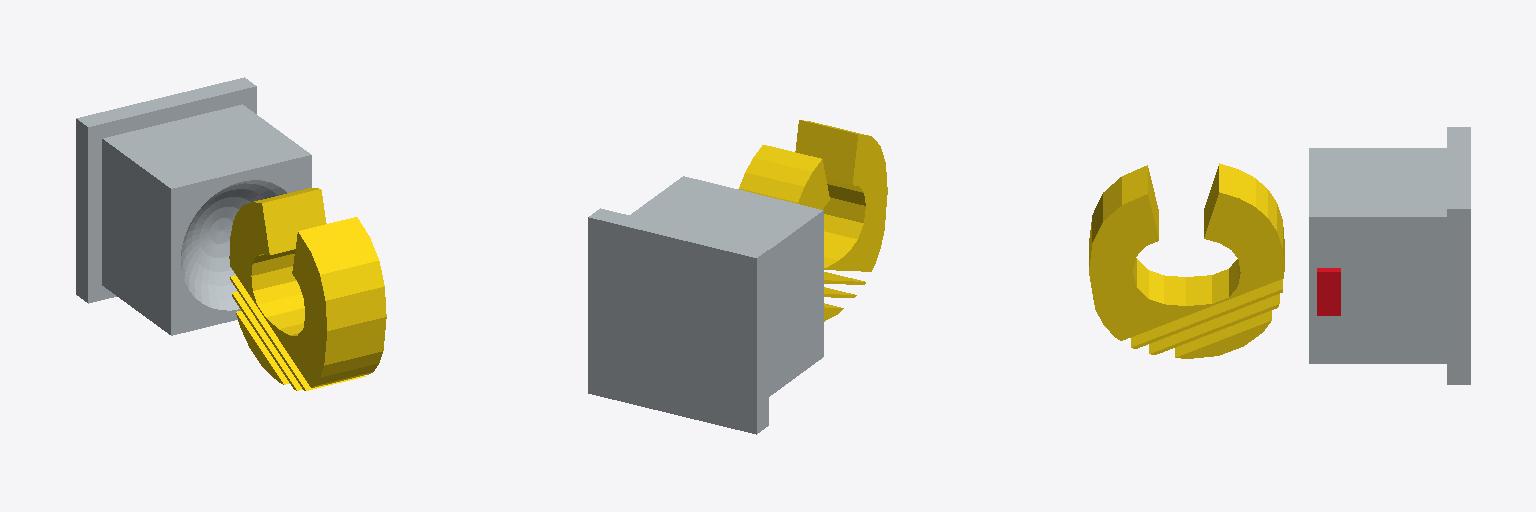
Rendered from tinker.obj.
The picture shows the model from 3 angles: view 1: azimuth 30°, elevation 25°; view 2: azimuth 150°, elevation 25°; view 3: azimuth 270°, elevation 25°; orthographic projection.
Parts seen in each view (by area): view 1: obj_0; view 2: obj_0; view 3: obj_0.
Part boxes in pixels (x1,y1,x2,y2): obj_0: (76, 77, 386, 390); obj_0: (588, 120, 887, 434); obj_0: (1089, 127, 1470, 384).
Size of the model in its own units: 24 by 24 by 47.16.